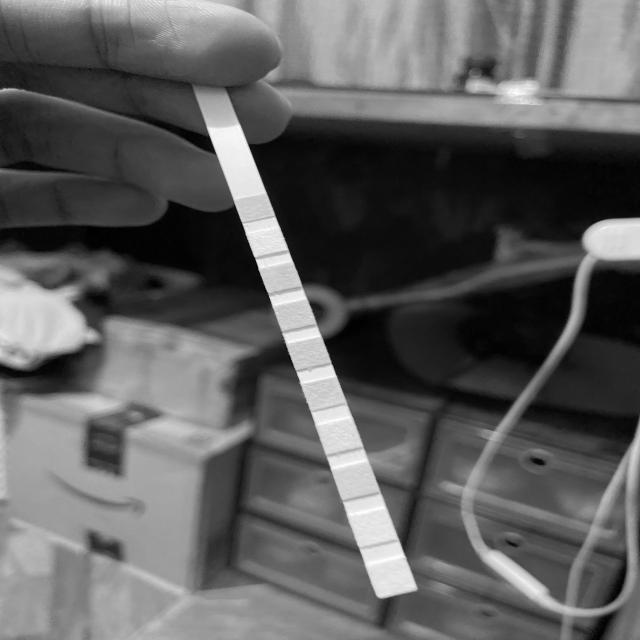Bilirubin: (254, 232, 282, 251)
Blood: (296, 342, 324, 364)
Glucose: (242, 198, 269, 218)
Ketone: (266, 267, 296, 288)
Leukocytes: (374, 565, 409, 590)
Nitrite: (356, 516, 389, 542)
Protein: (326, 422, 354, 448)
SpGravity: (282, 304, 310, 326)
Urobilinogen: (338, 469, 372, 490)
background: (0, 0, 640, 640)
pH: (309, 382, 340, 405)
strip: (198, 96, 419, 600)
